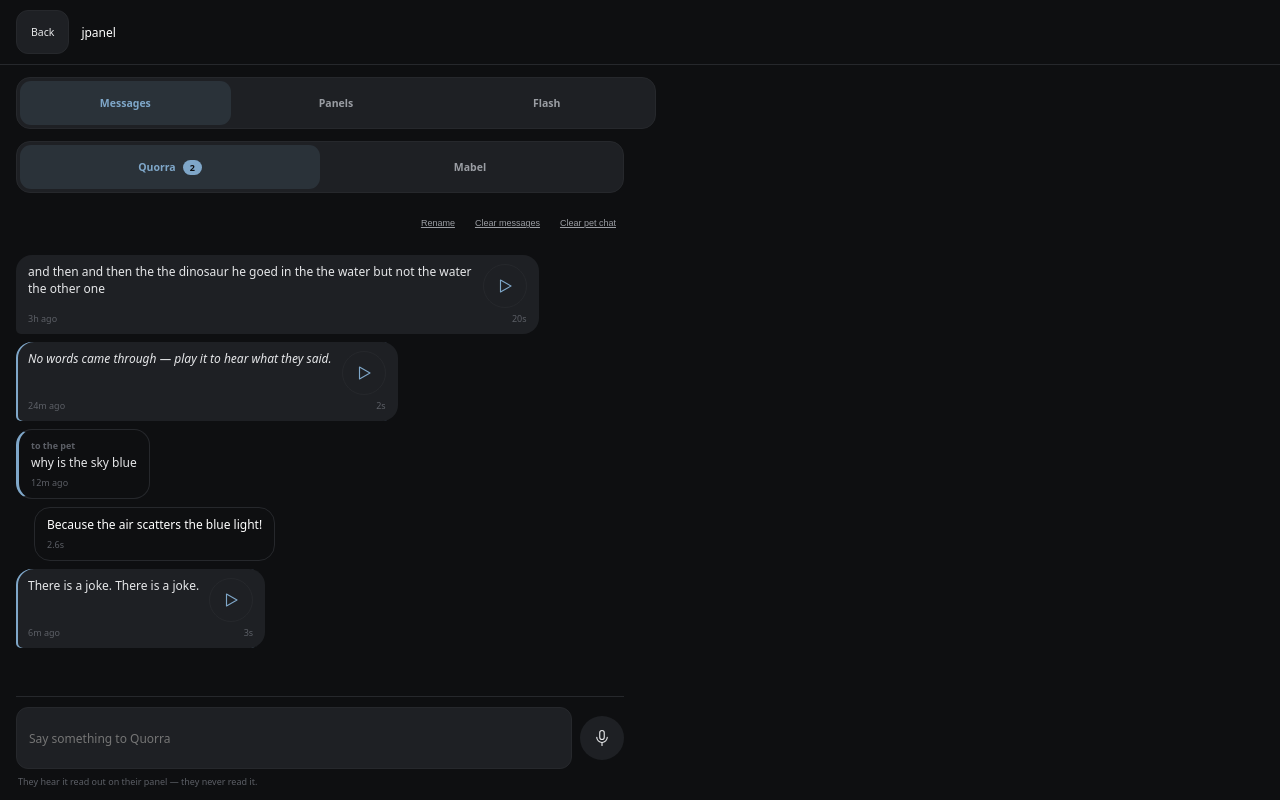
Test: JpanelScreen messages › never lets a poll that left before a send remove the bubble it sent
# A rename refetches the lists: that is the poll left hanging.
Click the button "Rename". click: (438, 223)
box: [413, 201, 463, 245]
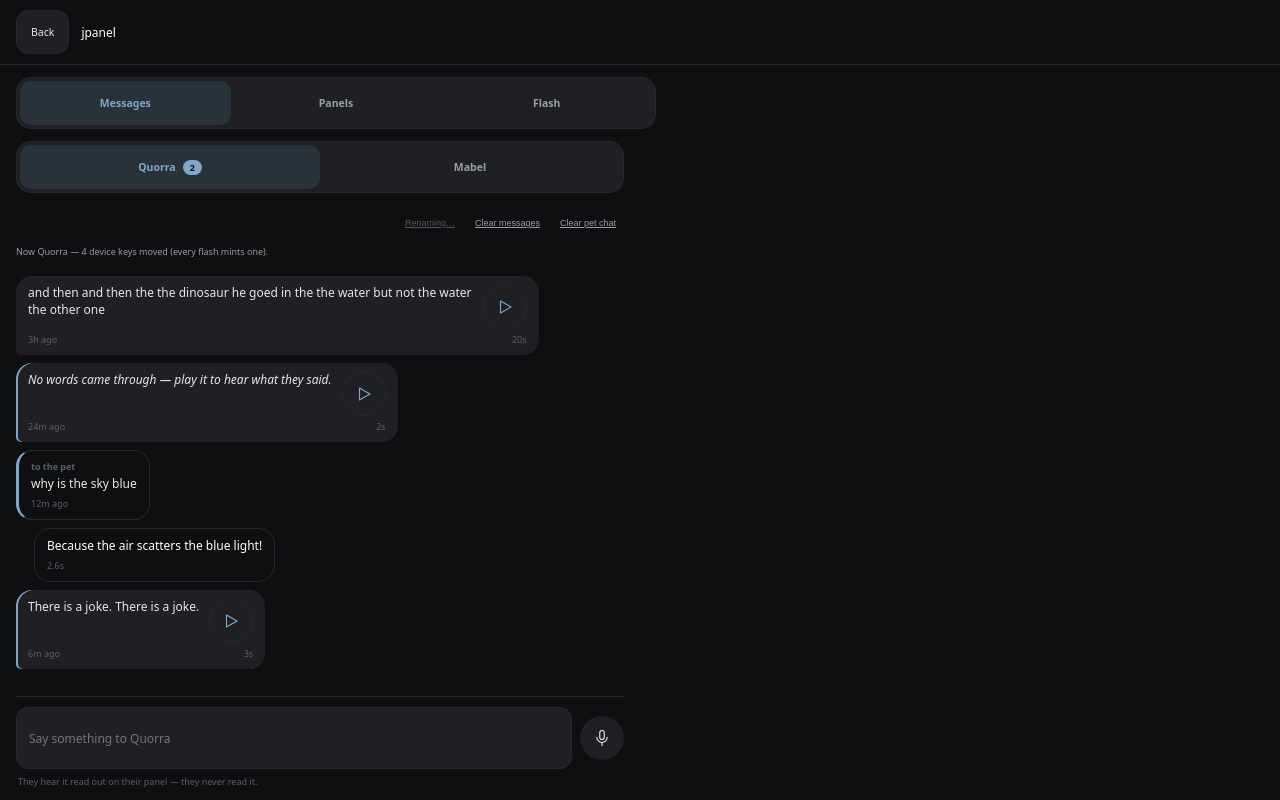
Type "Five more minutes then teeth." into the field named "Message Quorra". click: (294, 738)
box: [16, 707, 572, 769]
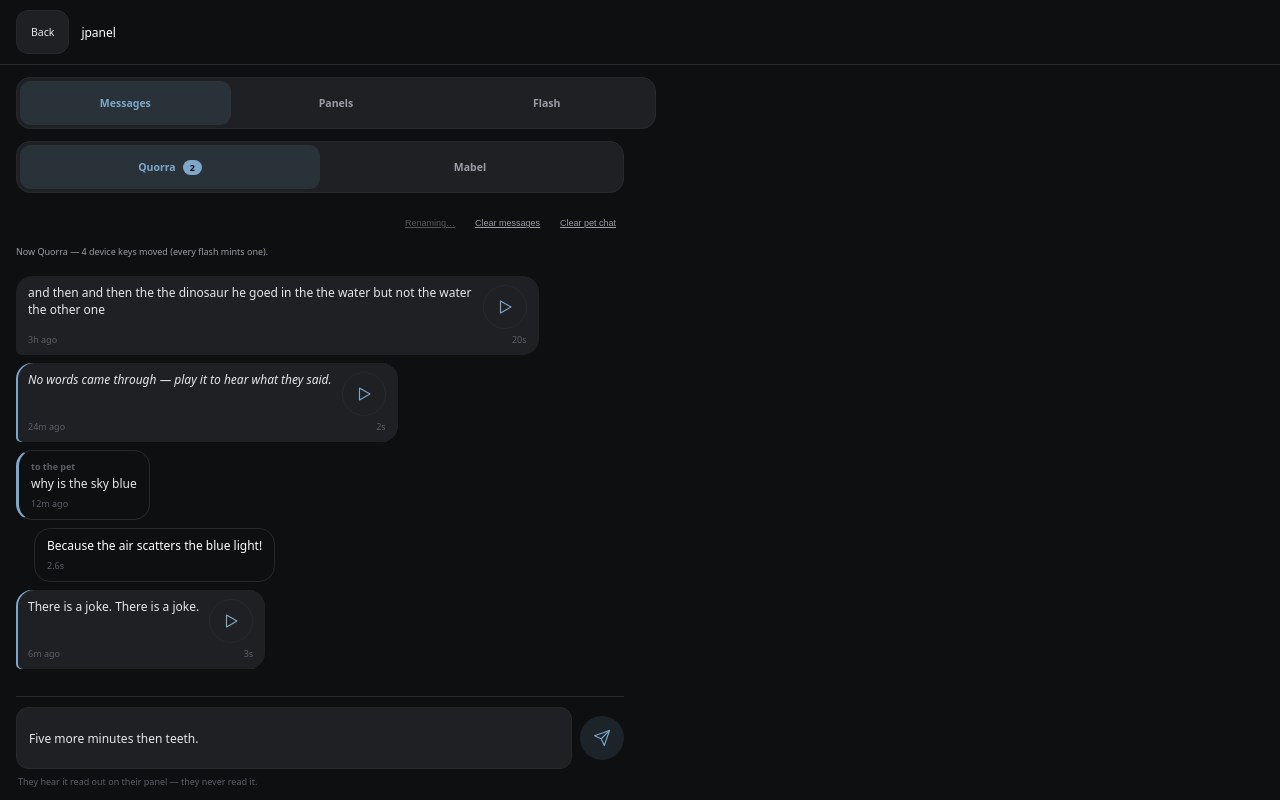
Click the button named "Send to Quorra". click: (602, 738)
box: [580, 716, 624, 760]
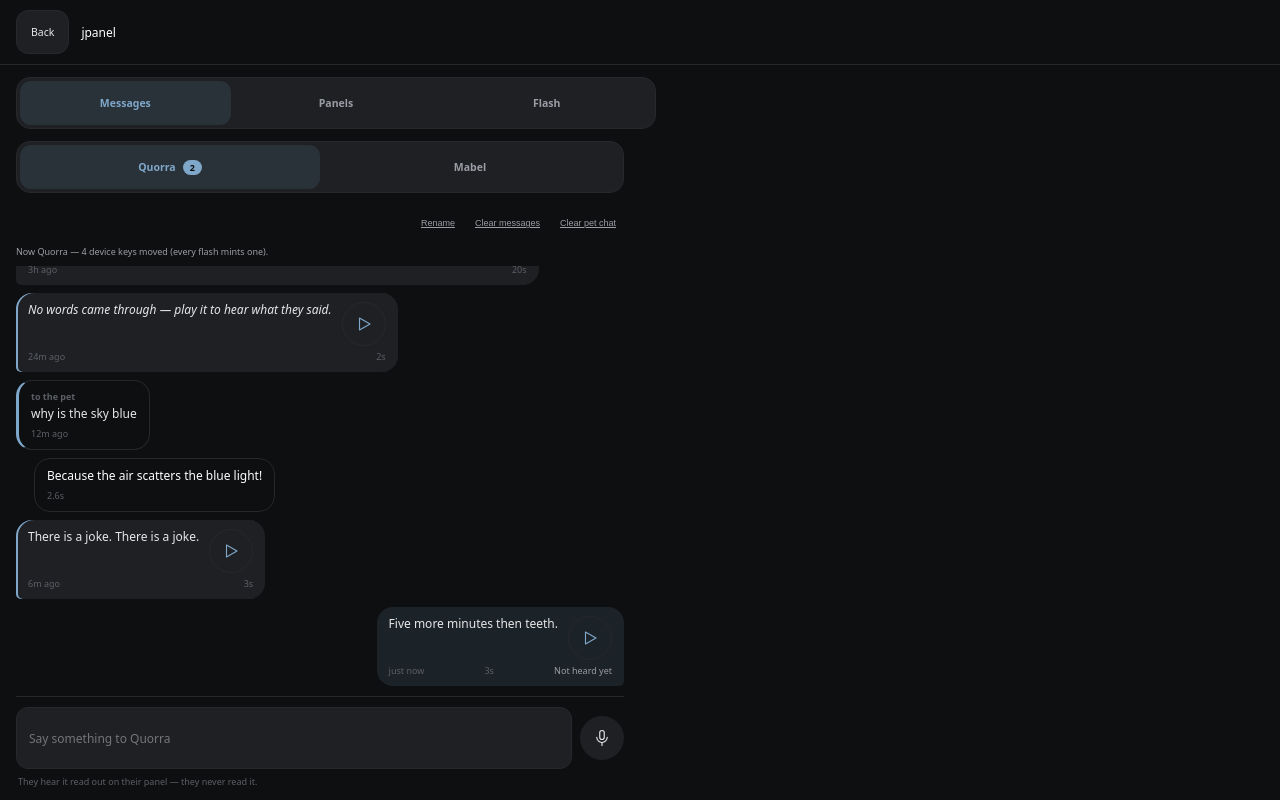
Check: the text "Five more minutes then teeth." is shown, box [389, 616, 558, 632]
